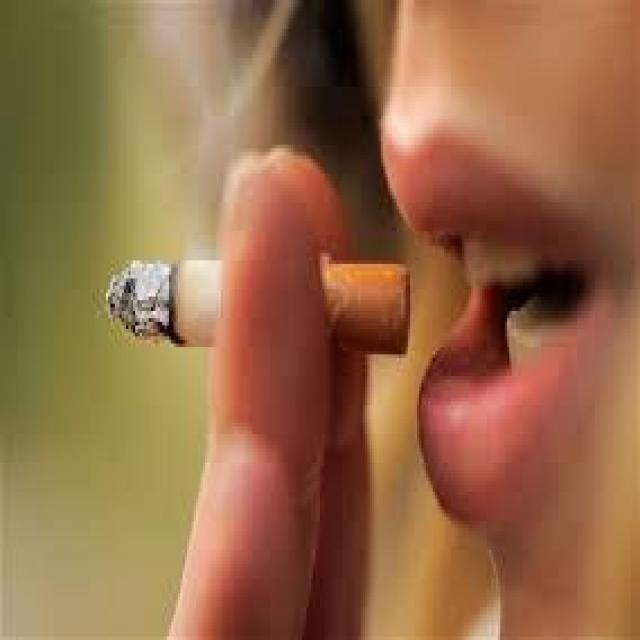cigarette: (106, 260, 223, 351), (320, 257, 412, 358)
